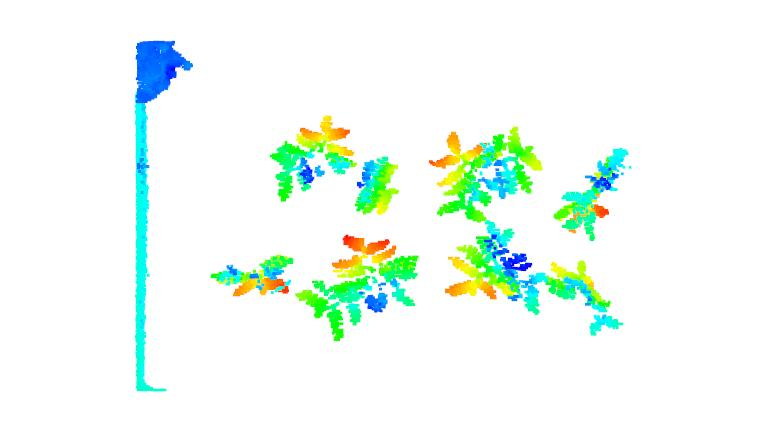chickpea: (294, 232, 422, 344), (429, 127, 542, 227), (444, 221, 542, 315), (546, 148, 634, 241), (273, 114, 357, 203), (543, 258, 625, 337), (208, 249, 299, 299), (348, 154, 406, 216)
